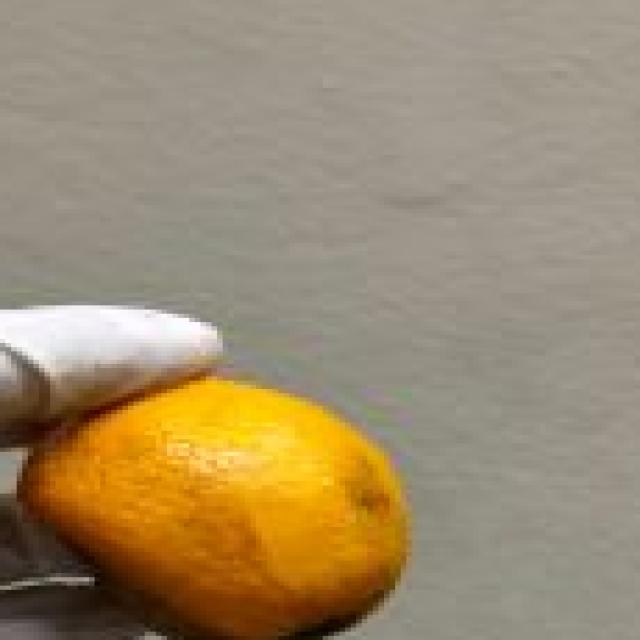Bad_Orange-0-1 day: (17, 376, 412, 640)
